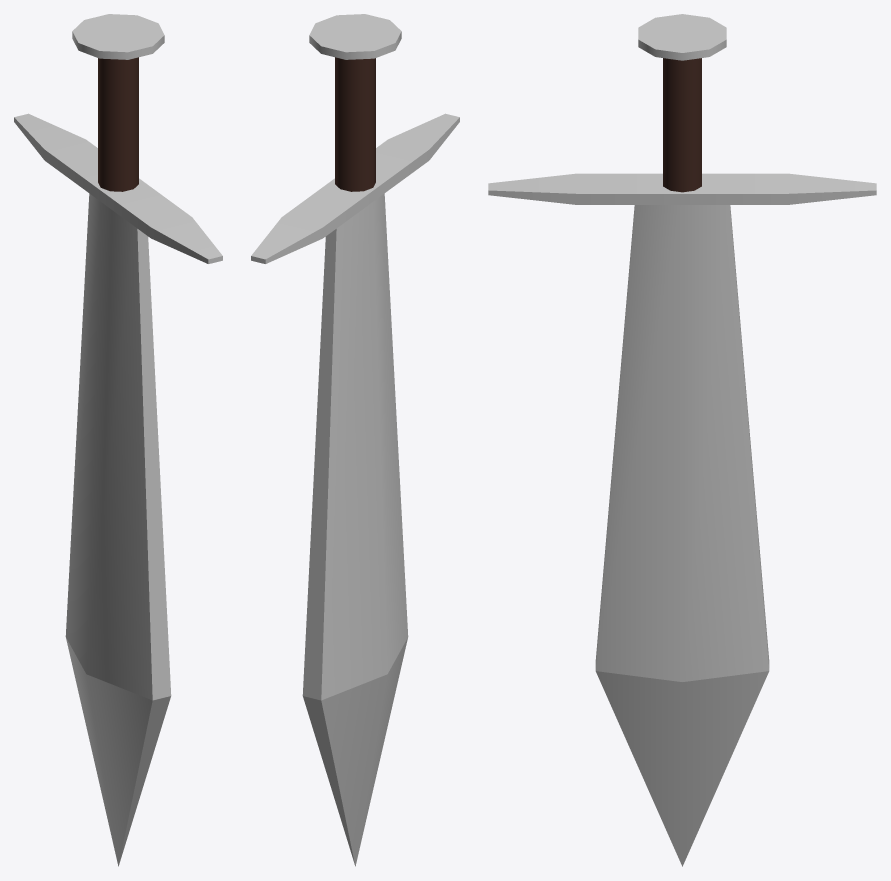
The model's file is Sword.fbx.
The picture shows the model from 3 angles, left to right: view 1: azimuth 30°, elevation 25°; view 2: azimuth 150°, elevation 25°; view 3: azimuth 270°, elevation 25°; orthographic projection.
Parts seen in each view (by area): view 1: DefaultSword; view 2: DefaultSword; view 3: DefaultSword.
Boxes of the visible parts, x1=… form: DefaultSword: x1=14, y1=14, x2=222, y2=866; DefaultSword: x1=251, y1=14, x2=459, y2=866; DefaultSword: x1=488, y1=14, x2=876, y2=866.
Bounding box in the file's own units: 24.65 × 245 × 103.
